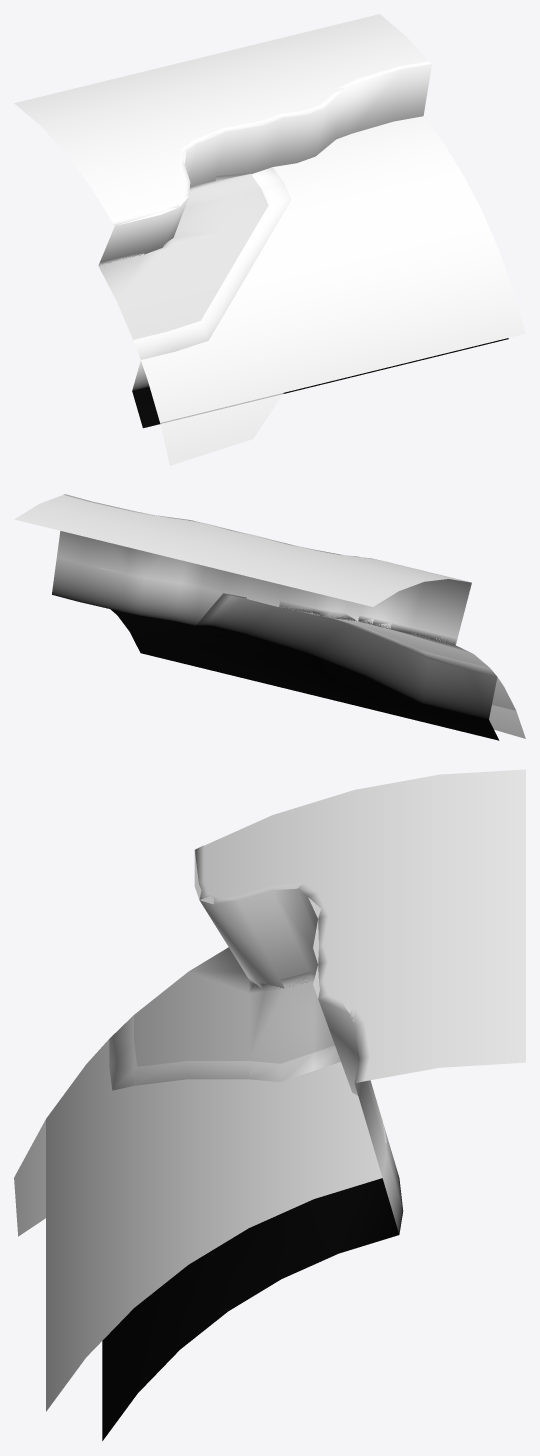
The model's file is grd_Mse_s_E_1.dae.
3 views of the same model, one above another, from view 1: azimuth 30°, elevation 25°; view 2: azimuth 150°, elevation 25°; view 3: azimuth 270°, elevation 25° (orthographic). The views are drawn at different scales.
Parts seen in each view (by area): view 1: grd_Mse_s_E_1; view 2: grd_Mse_s_E_1; view 3: grd_Mse_s_E_1.
Part boxes in pixels (left/top/right/bottom): grd_Mse_s_E_1: left=14, top=14, right=525, bottom=465; grd_Mse_s_E_1: left=14, top=494, right=525, bottom=740; grd_Mse_s_E_1: left=14, top=769, right=525, bottom=1440.
Bounding box in the file's own units: 512 × 332 × 378.
Materials: 7 (1 with a texture image).
